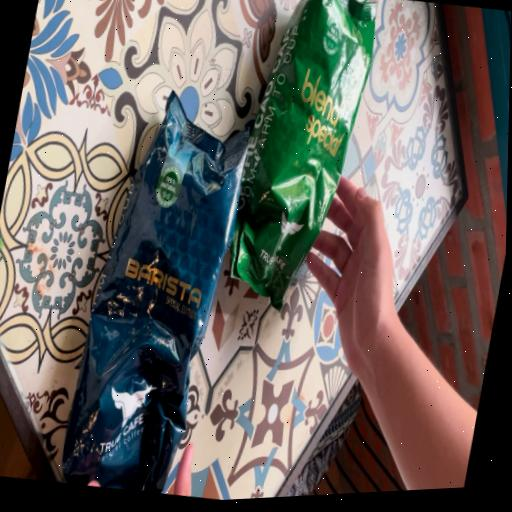cafe_hat: (61, 91, 247, 493)
cafe_xay: (230, 0, 375, 308)
